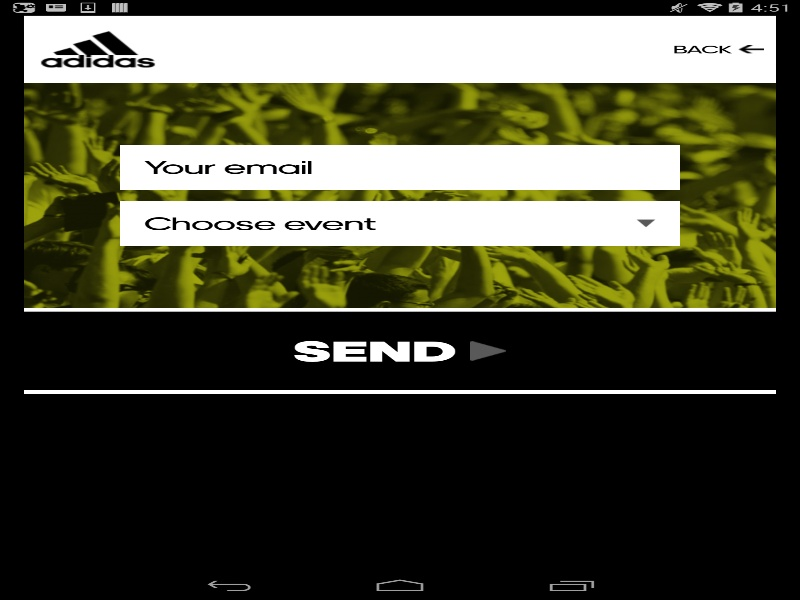Input: (120, 145, 680, 190)
